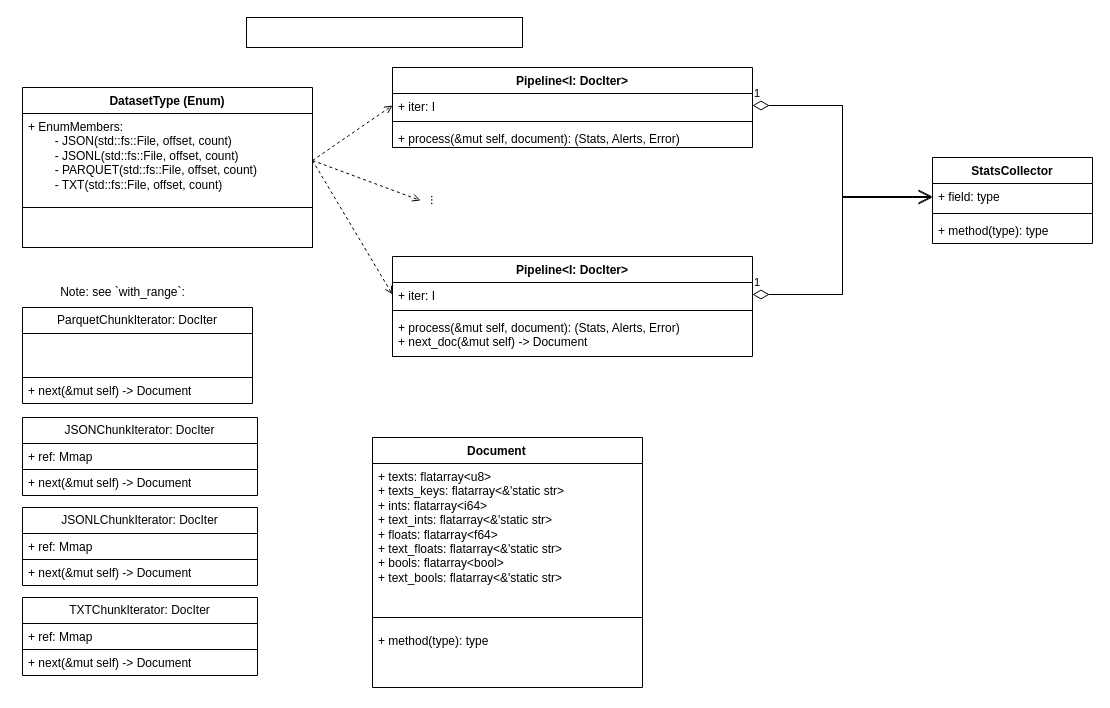
Image size: 1110x708. Some labels were removed from this diagram. Here are the shapes that lost their labels. From the top down, the centre of each, then its label:
At point 384,32: "trait DocIter: Iterator<Item=Document>".
At point 167,227: "+ iter(&self) -> DocIter + pipeline(&self)".
At point 137,355: "+ ref: parquet::file::SerializedFileReader".
